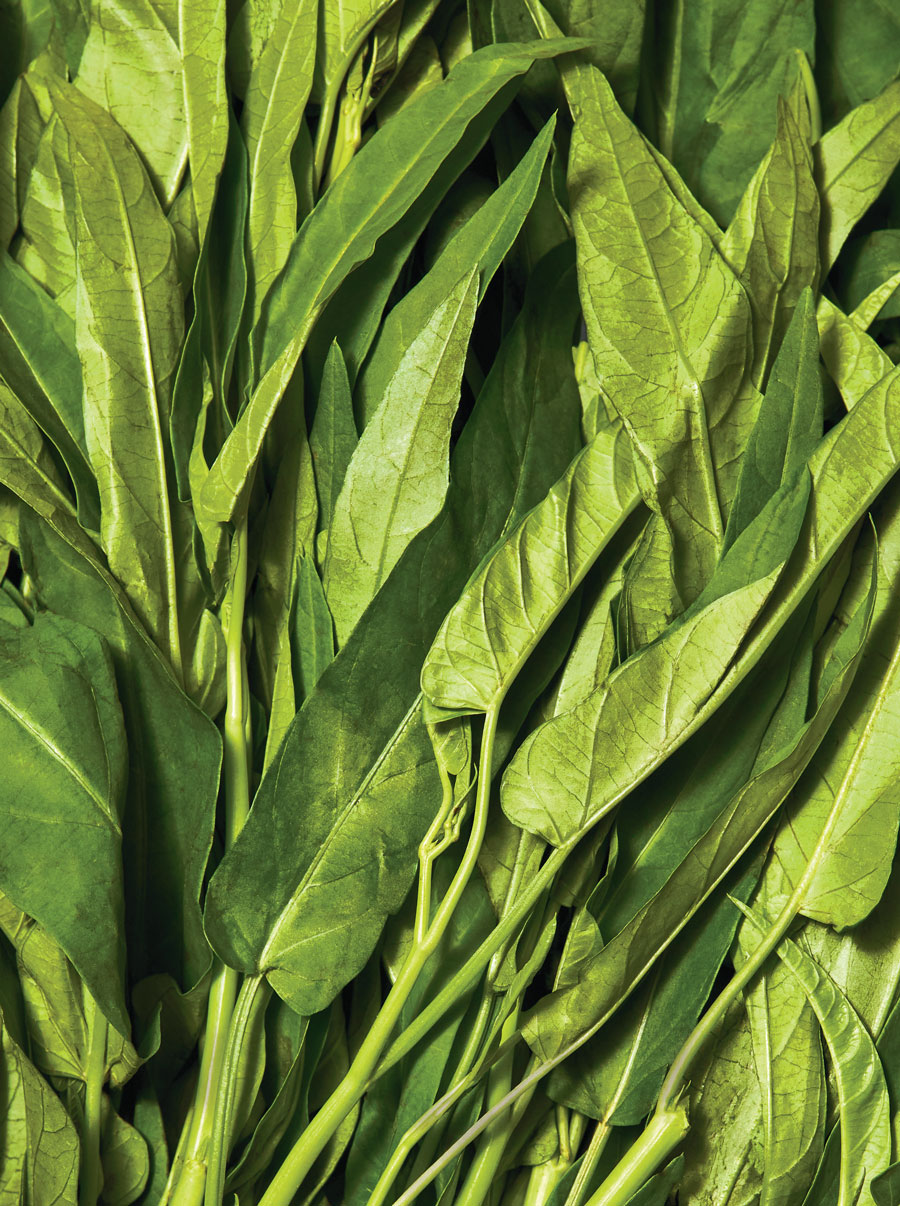Kangkung: (136, 121, 900, 1147)
